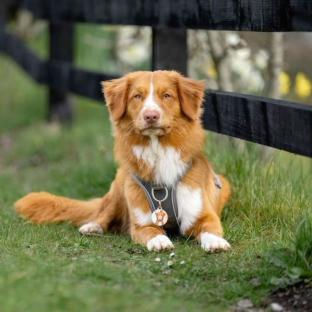Animal: (16, 70, 231, 252)
